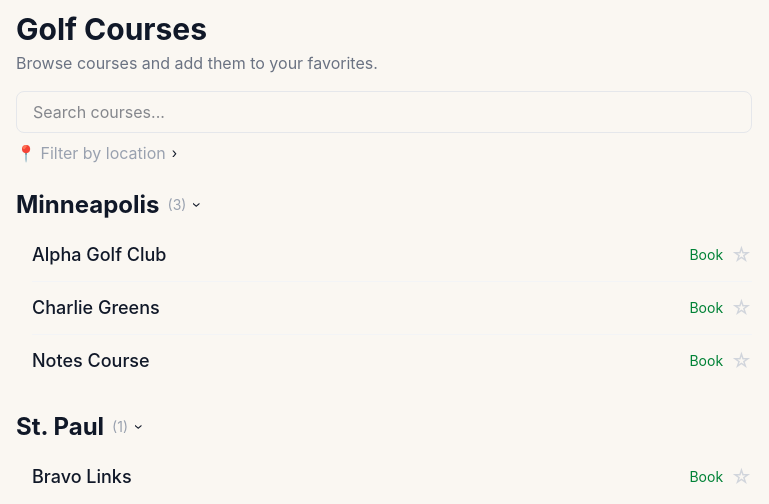
Test case: CoursesPage › shows all courses when search is cleared
Type "alpha" into the field with placeholder "Search courses...".
click(384, 112); type("alpha")  # box [16,91,752,133]
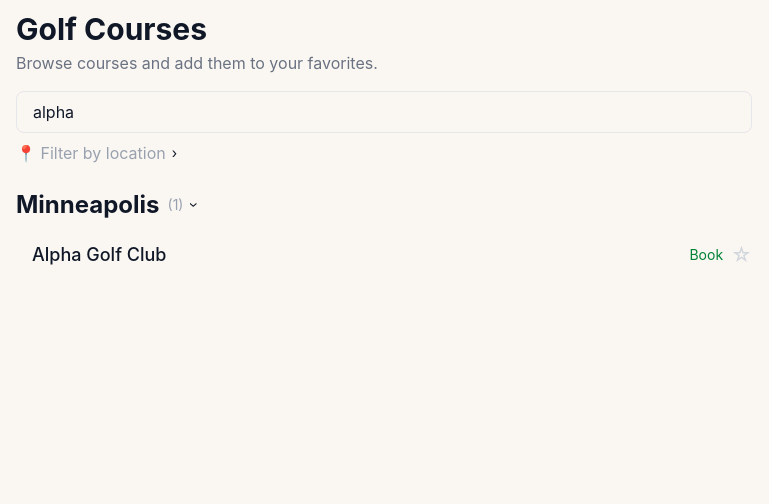
Clear the field with placeholder "Search courses..." at [384, 112], box [16,91,752,133]
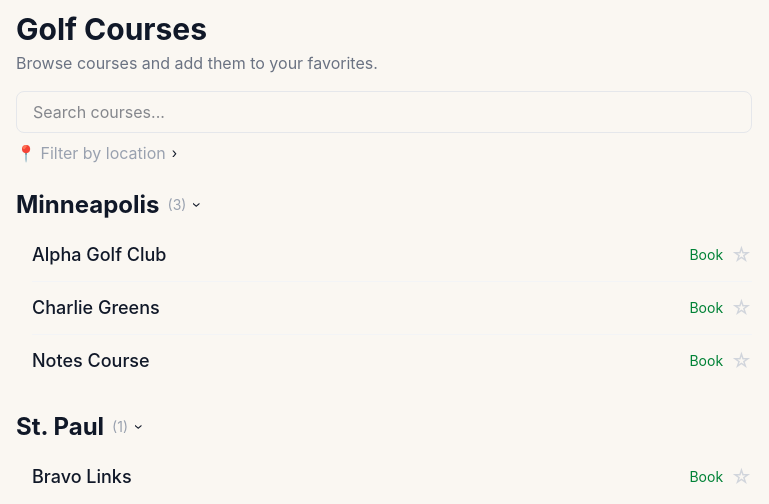
Expected: the link "Alpha Golf Club" is shown, [32,244,166,265]
Expected: the link "Bravo Links" is shown, [32,466,132,487]
Expected: the link "Charlie Greens" is shown, [32,297,160,318]
